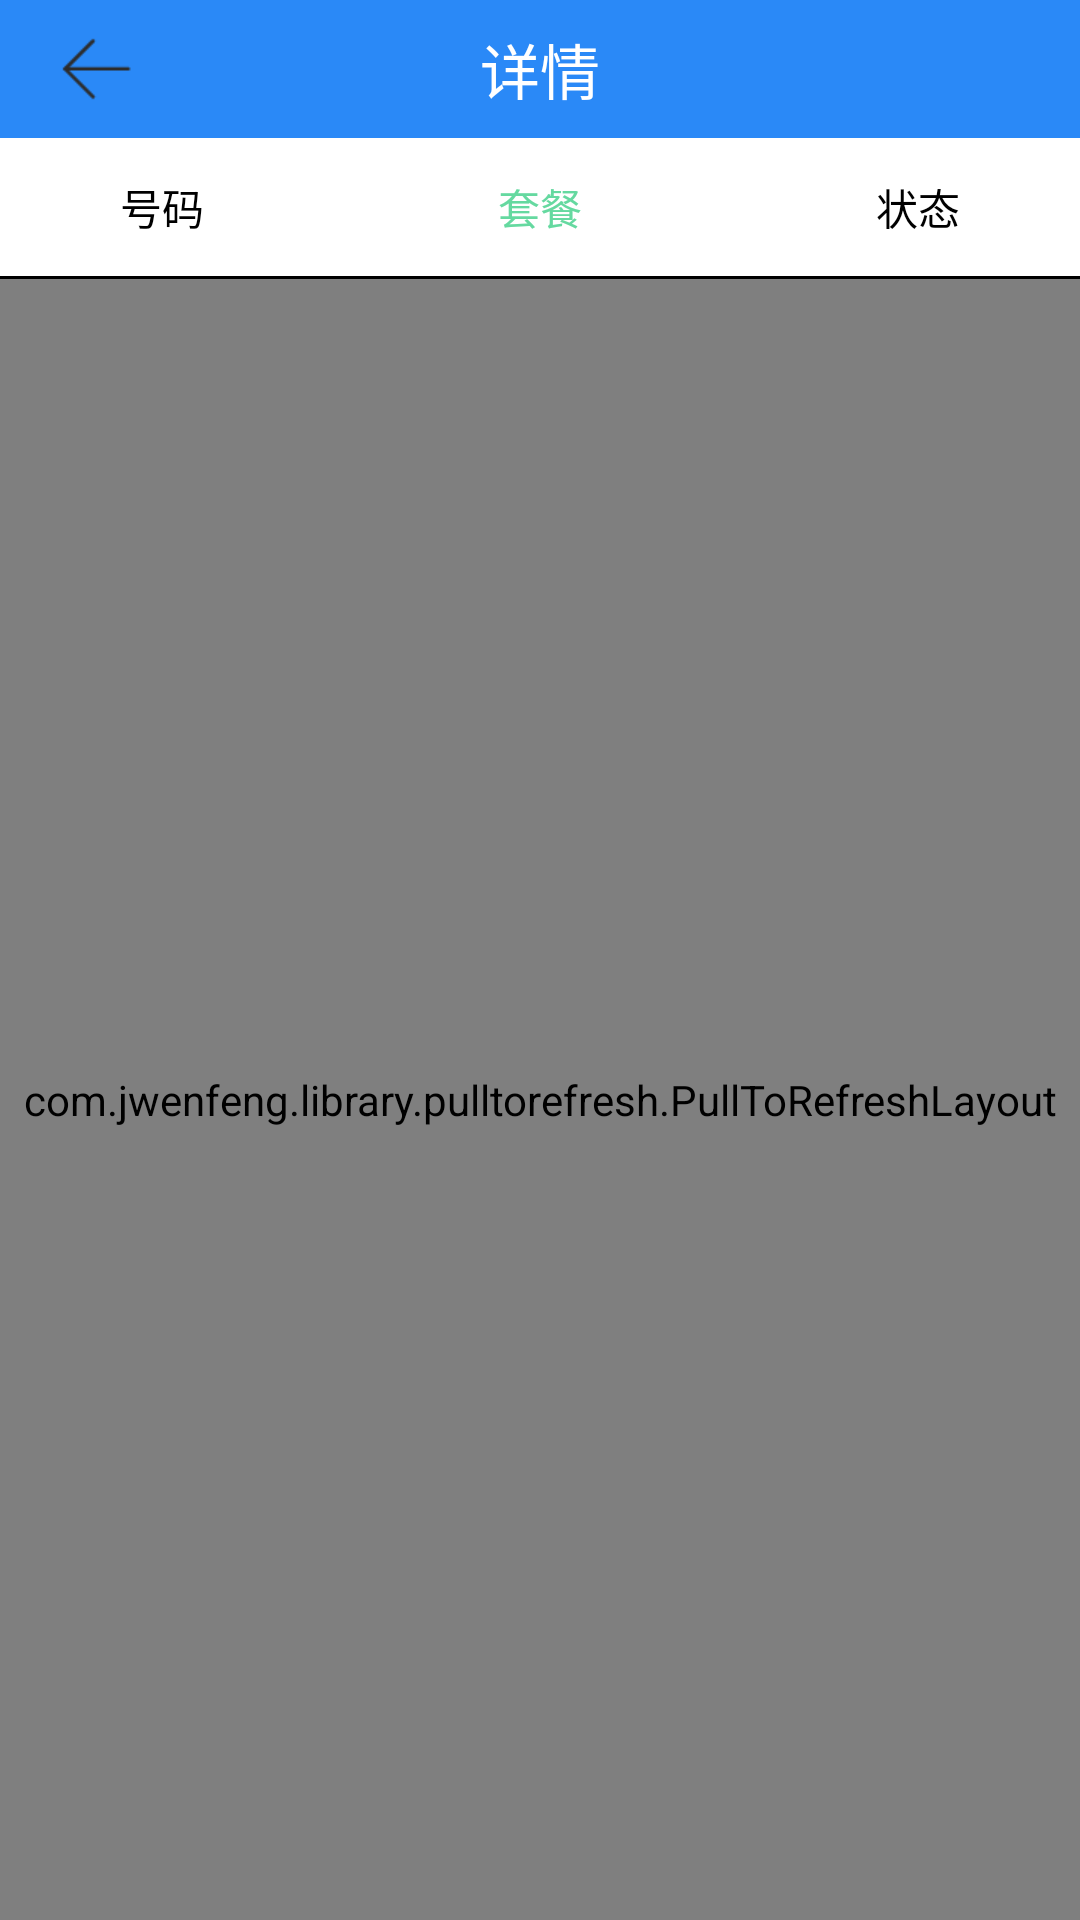

Named icons in this screenshot (1080×1920) and their bounding boxes, (x1, y1, x2, y2):
back: (62, 39, 131, 99)
